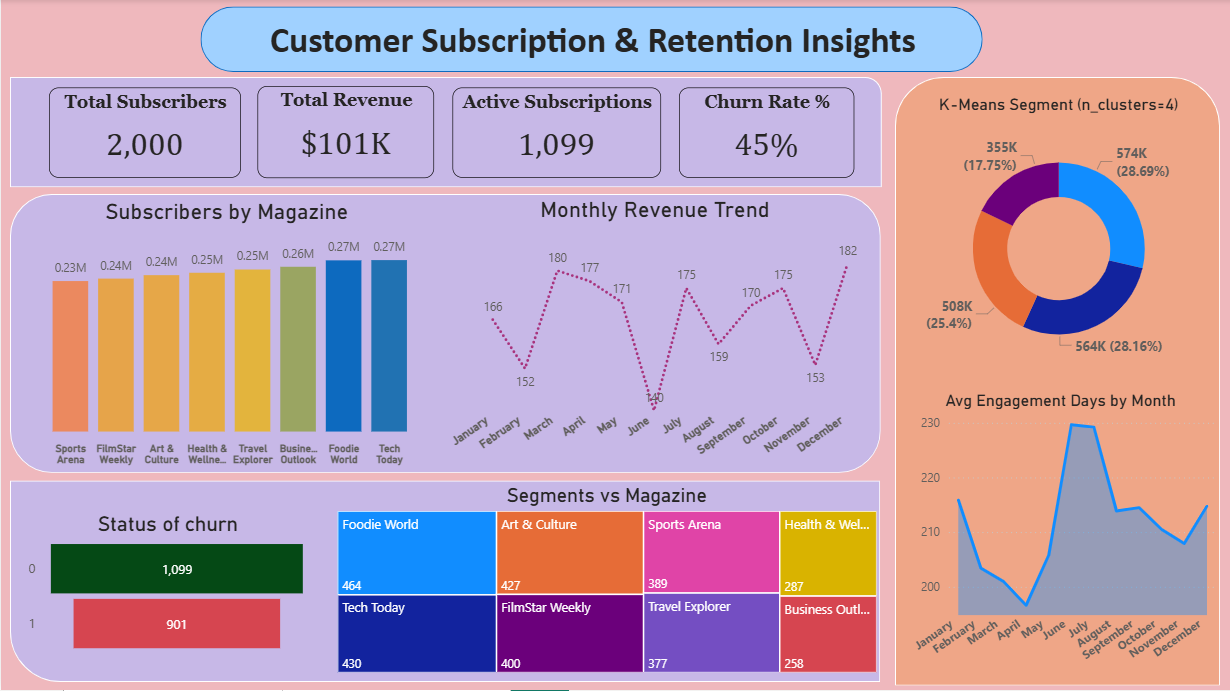

Layout of this report page (visuals, bound fields, positions):
{"tool":"powerbi","page":{"name":"Executive Overview","canvas":[1280,720],"ordinal":0},"visuals":[{"type":"shape","box":[10,202.9,907.2,290.6],"z":0},{"type":"shape","box":[931.4,81.4,338.6,634.3],"z":1000},{"type":"shape","box":[10,81.7,908.3,115],"z":2000},{"type":"shape","box":[10,501.7,906.7,210],"z":3000},{"type":"card","title":"Total Subscribers","fields":{"Values":["customer_prediction_final.Total Subscribers"]},"box":[50,92.9,200,94.3],"z":4000},{"type":"card","title":"Total Revenue","fields":{"Values":["customer_prediction_final.Total Revenue"]},"box":[267.1,91.4,184.3,95.7],"z":5000},{"type":"card","title":"Active Subscriptions","fields":{"Values":["customer_prediction_final.Active Subscriptions"]},"box":[470,88.6,217.1,98.6],"z":6000},{"type":"card","title":"Churn Rate %","fields":{"Values":["customer_prediction_final.Churn Rate %"]},"box":[707.1,88.6,182.9,98.6],"z":7000},{"type":"columnChart","title":"Subscribers by Magazine","fields":{"Category":["customer_prediction_final.magazine_name"],"Y":["Sum(customer_prediction_final.subscription_id)"]},"box":[23.5,208,424,285.5],"z":8000},{"type":"lineChart","title":"Monthly Revenue Trend","fields":{"Category":["customer_prediction_final.month.Variation.Date Hierarchy.Month"],"Y":["customer_prediction_final.Total Subscribers"]},"box":[462.8,206.3,437.6,287.2],"z":9000},{"type":"funnel","title":"Status of churn","fields":{"Category":["customer_prediction_final.churn"],"Y":["CountNonNull(customer_prediction_final.status)"]},"box":[23.5,534,300.7,155.4],"z":10000},{"type":"areaChart","fields":{"Category":["customer_prediction_final.month.Variation.Date Hierarchy.Month"],"Y":["customer_prediction_final.Avg Engagement Days"]},"box":[937.5,407.3,332.8,300.7],"z":11000},{"type":"donutChart","title":"Segment by Age, Price and Subscription","fields":{"Category":["customer_prediction_final.segment"],"Y":["Sum(customer_prediction_final.subscription_id)"]},"box":[951.7,100,300,300],"z":12000},{"type":"treemap","title":"Segments vs Magazine","fields":{"Values":["Sum(customer_prediction_final.segment)"],"Group":["customer_prediction_final.magazine_name"]},"box":[345,505,571.7,201.7],"z":13000},{"type":"shape","box":[208.3,8.3,815,68.3],"z":13500},{"type":"textbox","box":[250,13.3,733.3,60],"z":14000}]}

Visuals, with their boxes in screenshot pixels (x1, y1, x2, y2), scaled from the page's 1280x720 canvas onto the 1230x691 screenshot:
shape: [left=10, top=195, right=881, bottom=474]
shape: [left=895, top=78, right=1220, bottom=687]
shape: [left=10, top=78, right=882, bottom=189]
shape: [left=10, top=481, right=881, bottom=683]
"Total Subscribers" card: [left=48, top=89, right=240, bottom=180]
"Total Revenue" card: [left=257, top=88, right=434, bottom=180]
"Active Subscriptions" card: [left=452, top=85, right=660, bottom=180]
"Churn Rate %" card: [left=679, top=85, right=855, bottom=180]
"Subscribers by Magazine" columnChart: [left=23, top=200, right=430, bottom=474]
"Monthly Revenue Trend" lineChart: [left=445, top=198, right=865, bottom=474]
"Status of churn" funnel: [left=23, top=512, right=312, bottom=662]
areaChart - customer_prediction_final.month.Variation.Date Hierarchy.Month x customer_prediction_final.Avg Engagement Days: [left=901, top=391, right=1221, bottom=679]
"Segment by Age, Price and Subscription" donutChart: [left=915, top=96, right=1203, bottom=384]
"Segments vs Magazine" treemap: [left=332, top=485, right=881, bottom=678]
shape: [left=200, top=8, right=983, bottom=74]
textbox: [left=240, top=13, right=945, bottom=70]
